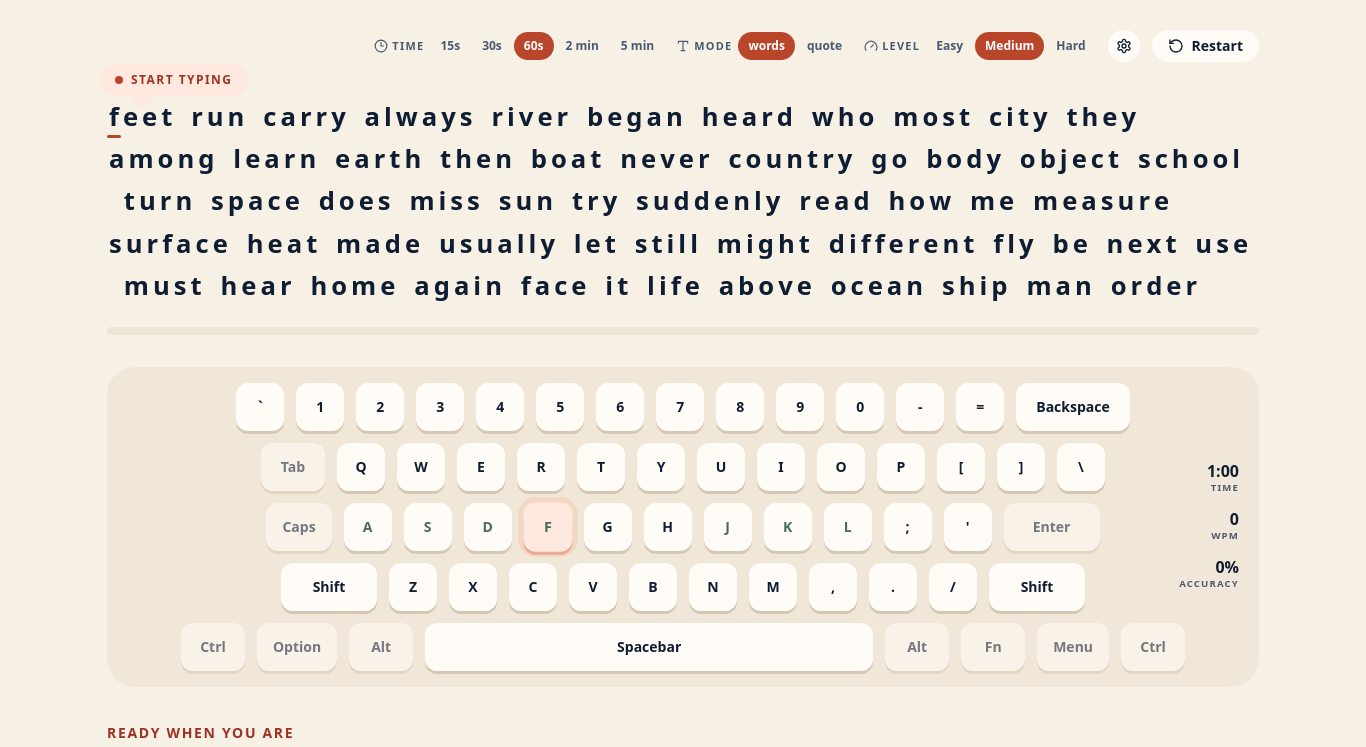
it: TypingTest input integration › offers all five durations without changing the canonical route
This screenshot has width=1366, height=747.
Click the button named "Open typing settings".
click(1124, 46)  # box x1=1108 y1=30 x2=1140 y2=62
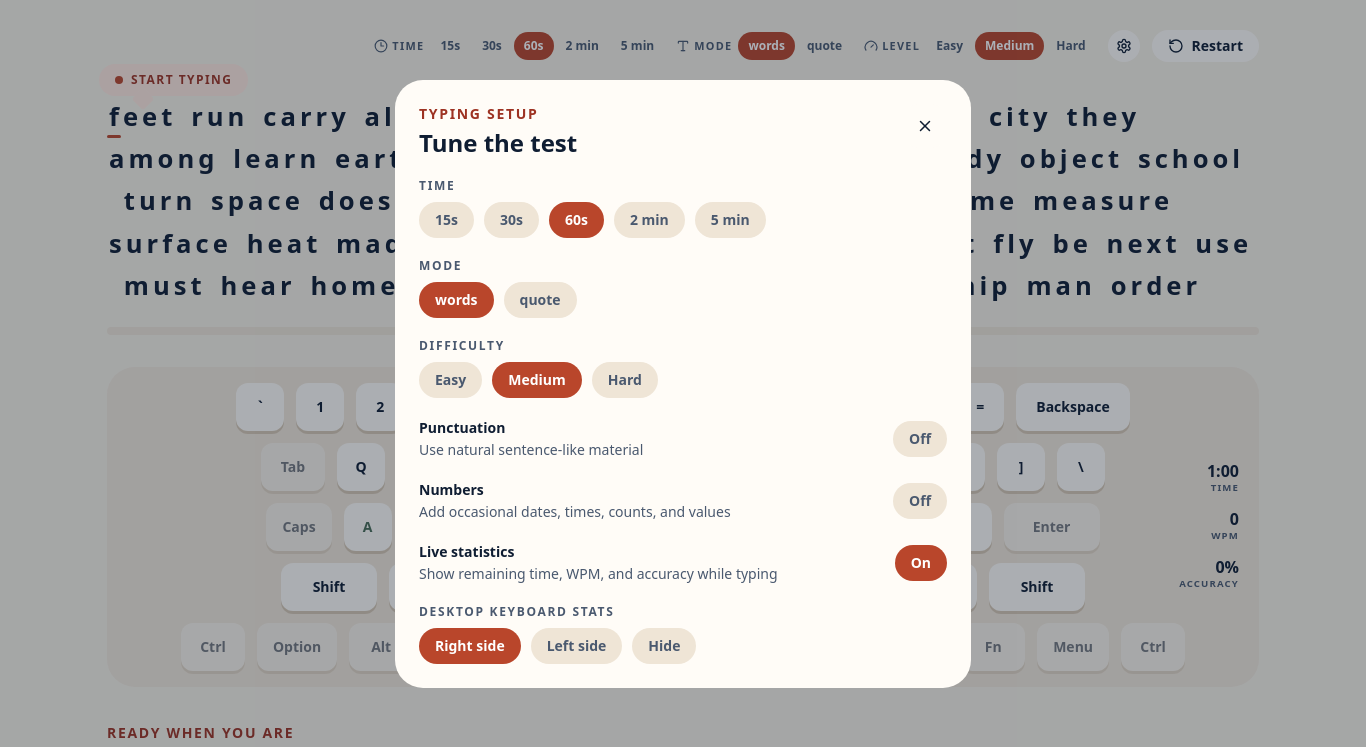
Now the button "15s" is shown, box x1=419 y1=202 x2=474 y2=238
Now the button "2 min" is shown, box x1=614 y1=202 x2=685 y2=238
Now the button "5 min" is shown, box x1=695 y1=202 x2=766 y2=238
